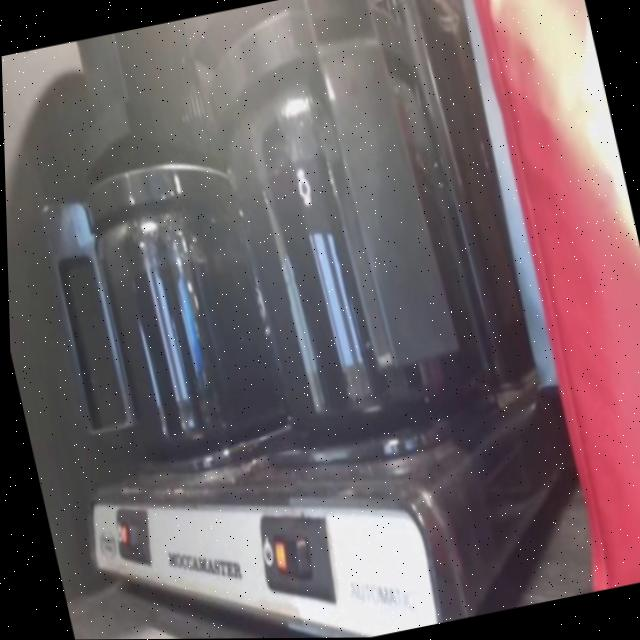coffee: (228, 105, 481, 437), (84, 203, 287, 459)
